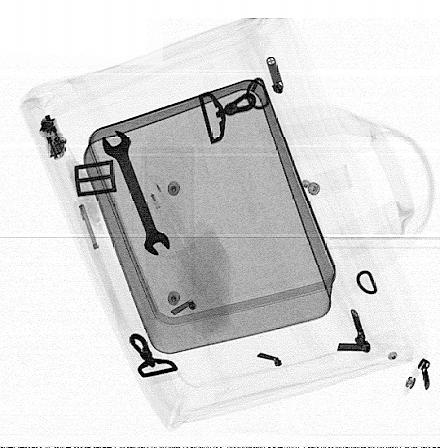Wrench: (102, 129, 171, 256)
